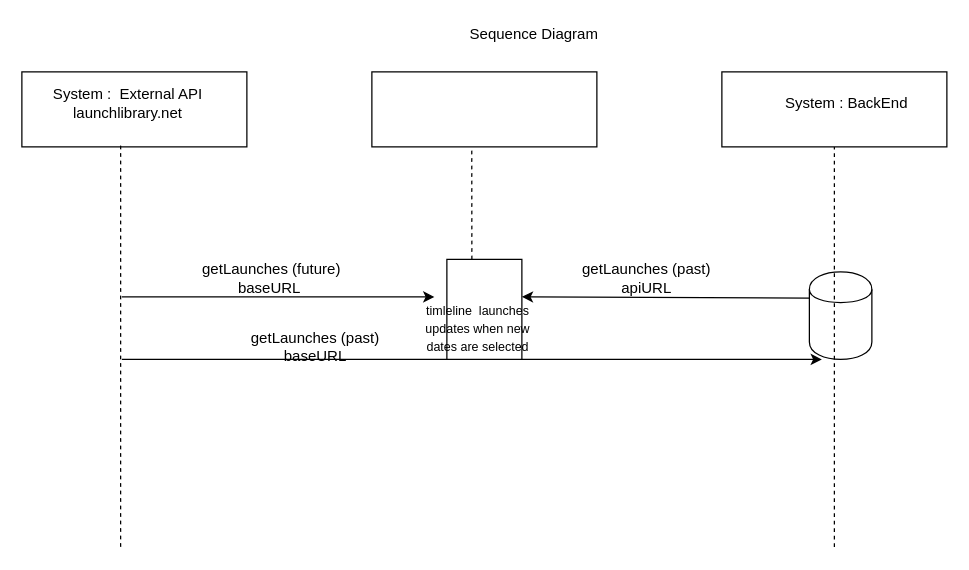
Some shapes in this 969 by 570 pixel diagram are drawn without their labels. Here are the shapes that lost their labels. From the top down, the centre of each, then its label:
At point (484, 109): "System : FrontEnd".
At point (840, 315): "MongoBD".
